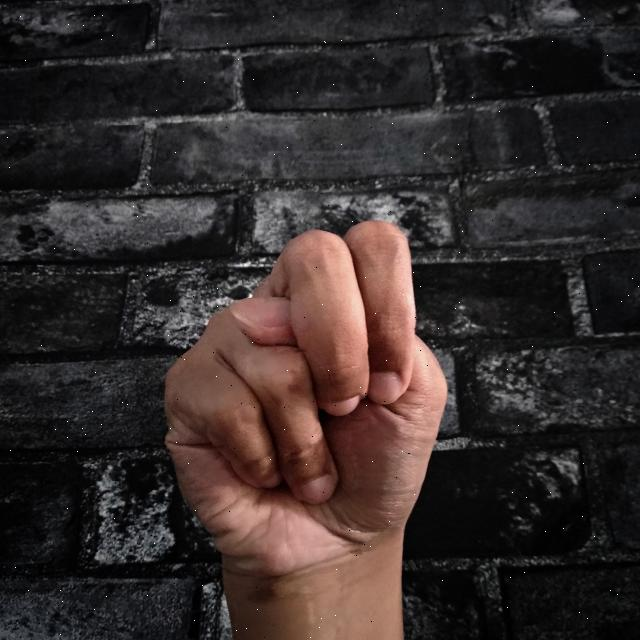N: (156, 215, 451, 640)
